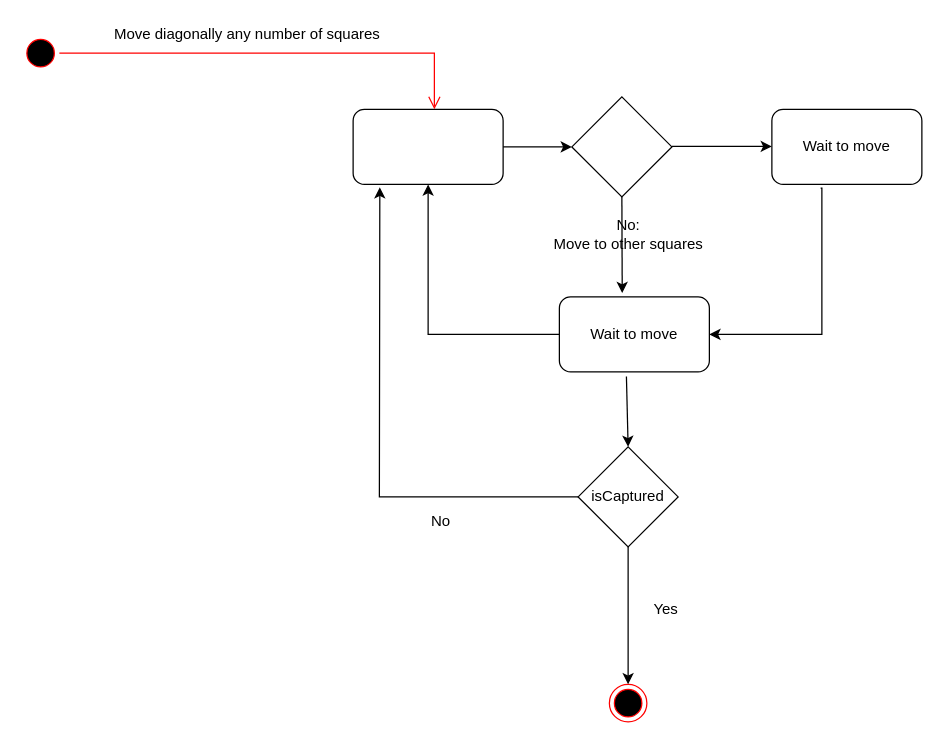
This 944x744 diagram has some shape labels left out. Here are the shapes that lost their labels. From the top down, the centre of each, then its label:
(427,146): Detect occupied squares
(621,146): isEnemy
